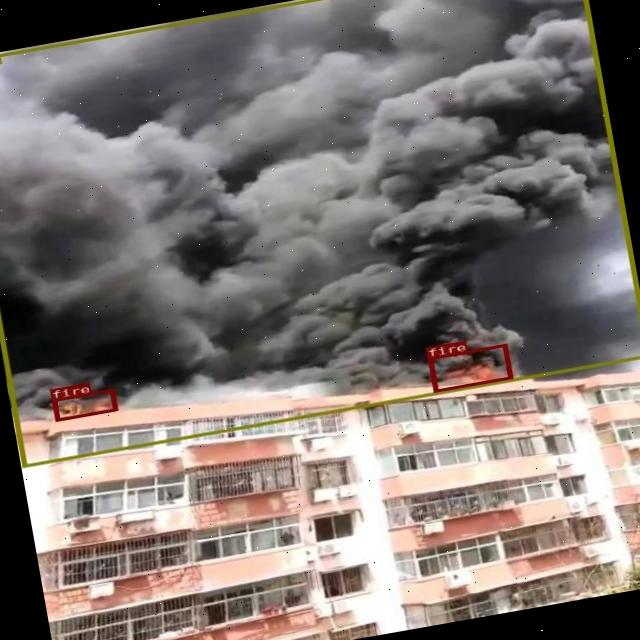fire: (427, 344, 512, 392), (50, 388, 116, 421)
smoke: (0, 0, 640, 467)
